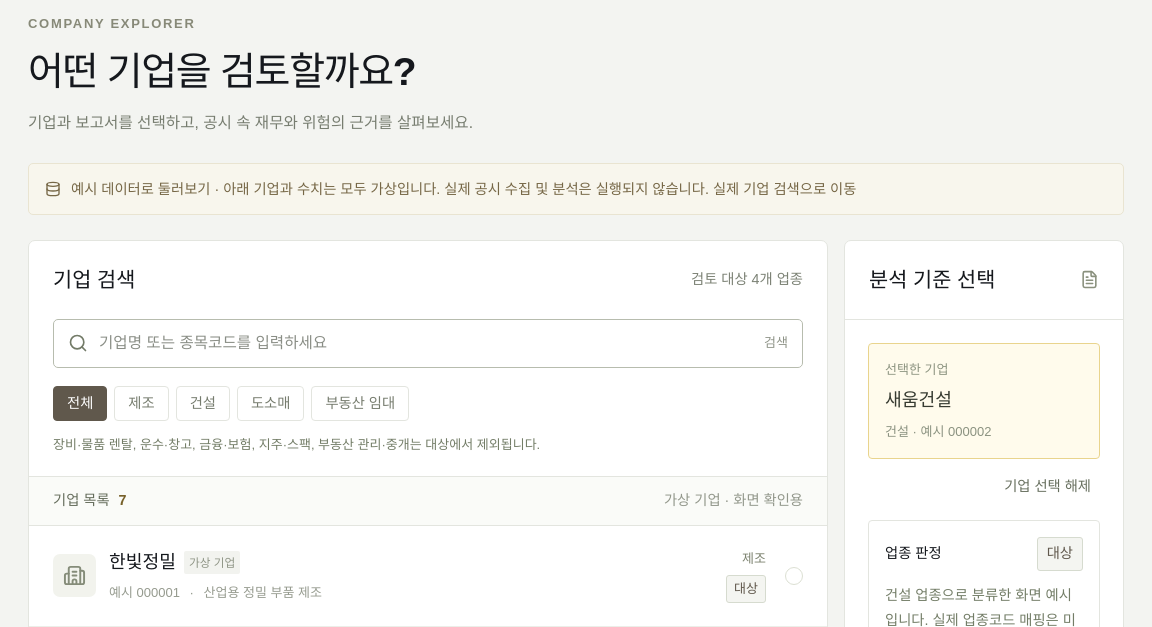
Test: restores company/report/scope from the URL and keeps selection explicit when filtered out
Click the button "제조": (141, 403) [114,386,169,421]
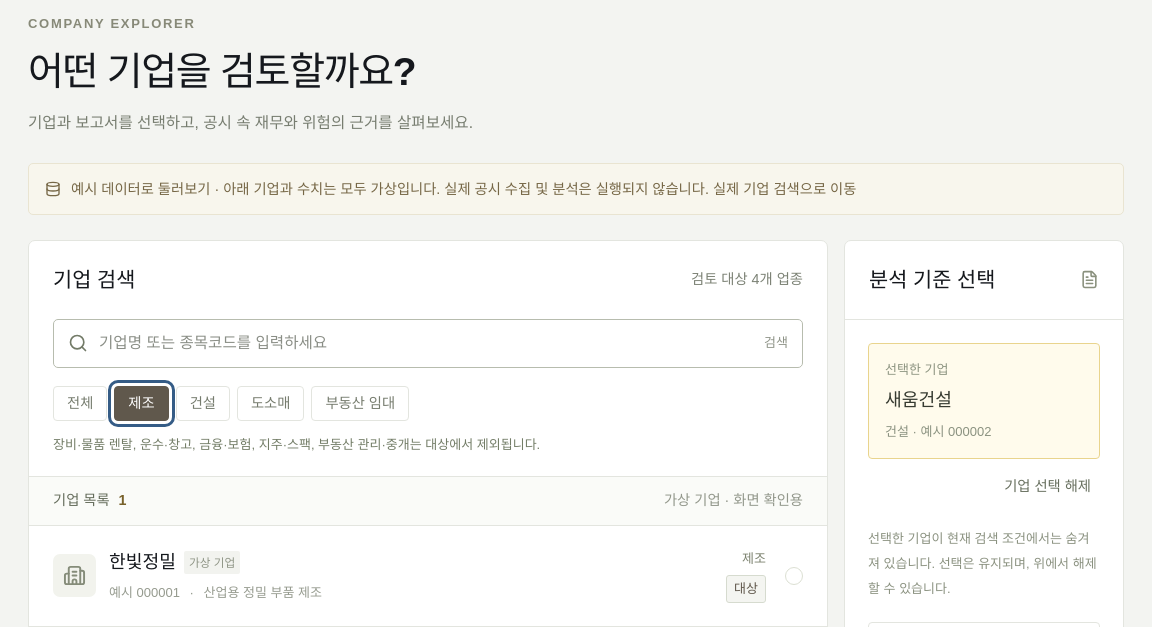
Expected: the text "선택한 기업이 현재 검색 조건에서는 숨겨져 있습니다. 선택은 유지되며, 위에서 해제할 수 있습니다." is shown, [868,527,1100,601]
Click the button "기업 선택 해제": (1048, 486) [995,467,1100,506]
(page scrolled)
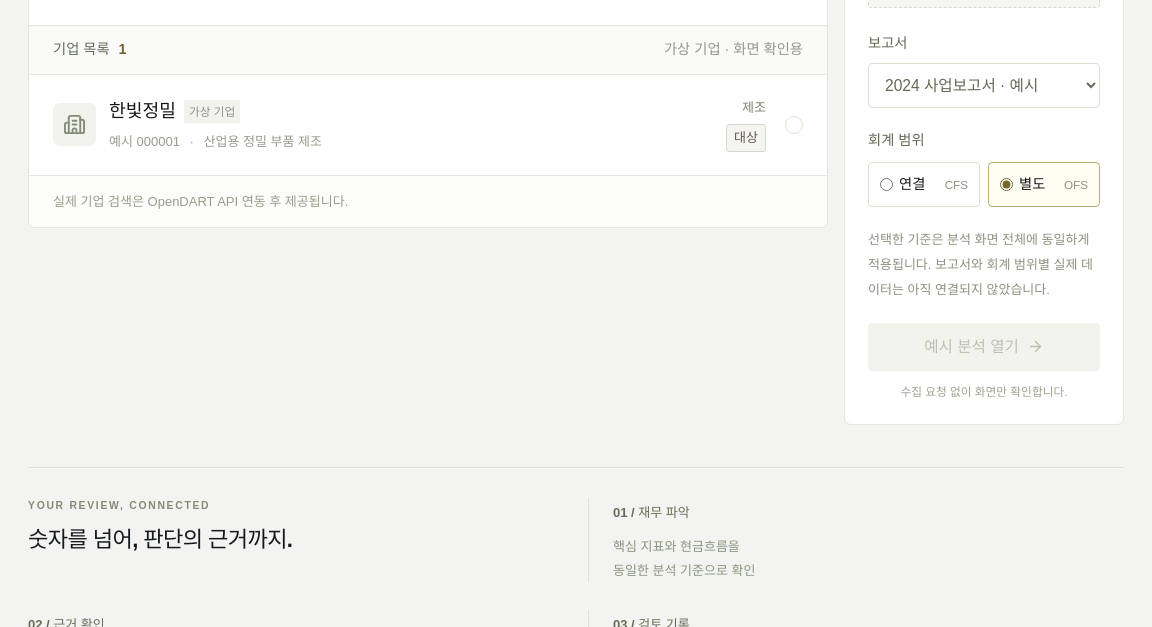
Expected: the button "예시 분석 열기" is disabled, [868,323,1100,371]
